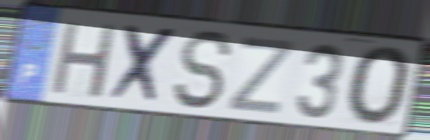3: (295, 41, 345, 120)
H: (48, 18, 121, 101)
O: (345, 44, 415, 130)
S: (171, 28, 235, 112)
X: (106, 22, 180, 108)
Z: (225, 35, 297, 117)
